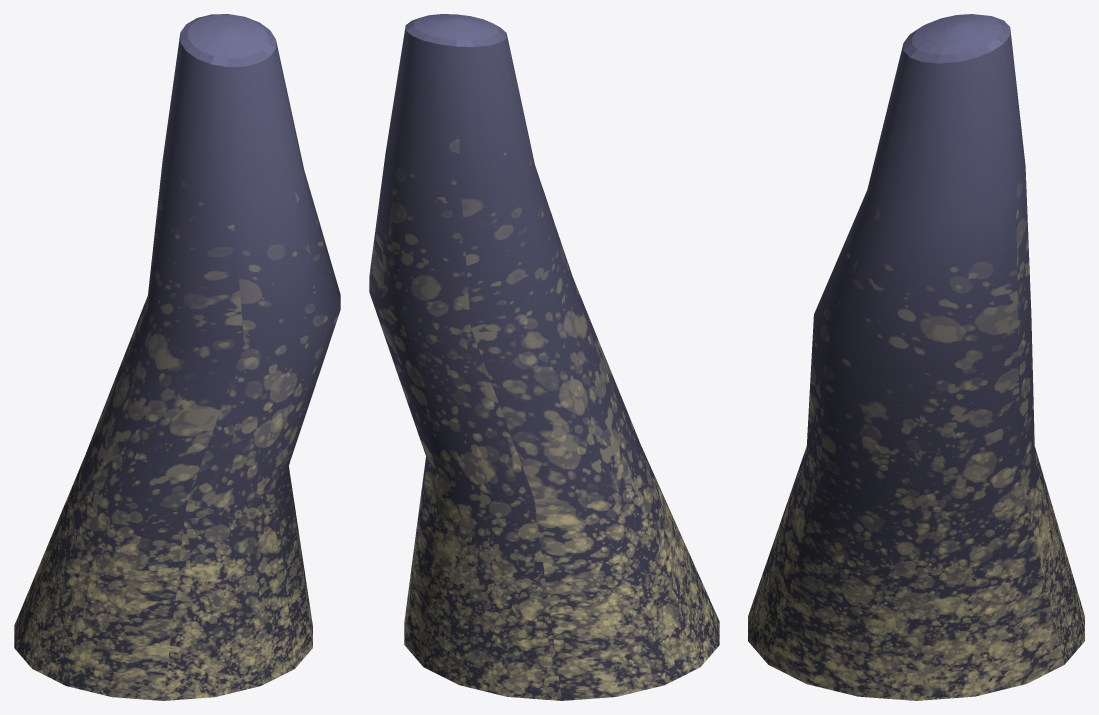
The model's file is MushroomStalkType2.fbx.
The picture shows the model from 3 angles, left to right: view 1: azimuth 30°, elevation 25°; view 2: azimuth 150°, elevation 25°; view 3: azimuth 270°, elevation 25°; orthographic projection. The views are drawn at different scales.
Visible parts, largest first — view 1: StalkType2; view 2: StalkType2; view 3: StalkType2.
Part boxes in pixels (box(x1,y1,x2,y2)): StalkType2: box(14, 14, 340, 700); StalkType2: box(369, 14, 719, 700); StalkType2: box(748, 14, 1084, 700).
Bounding box in the file's own units: 2.46 × 4.52 × 2.12.
